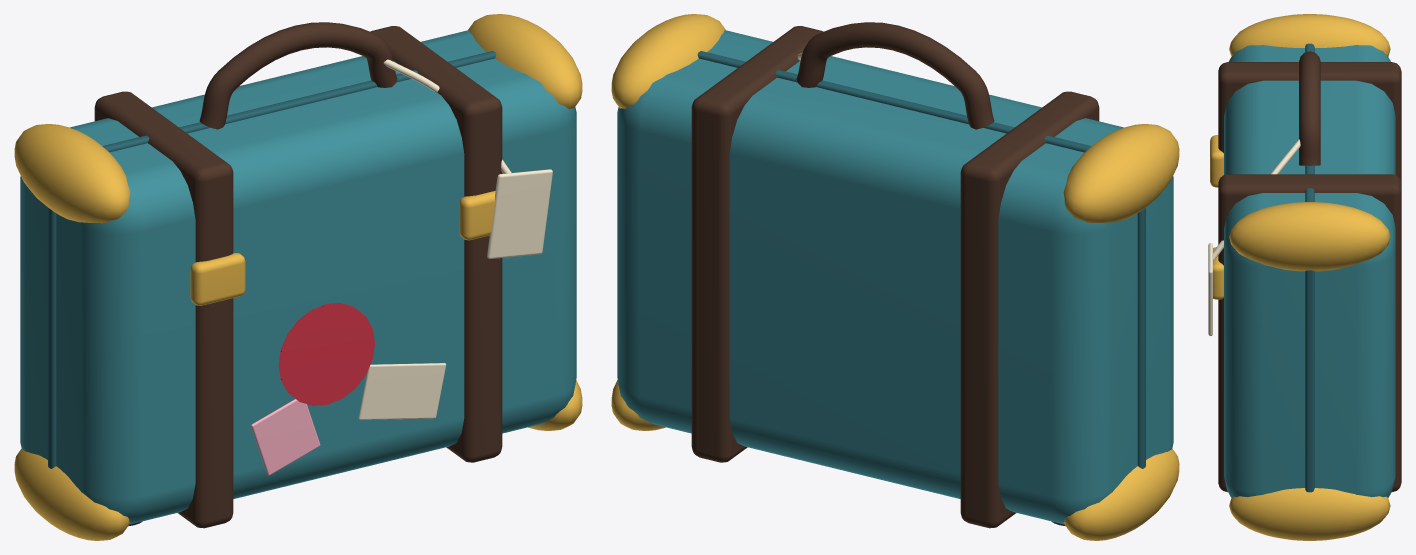
Rendered from suitcase.glb.
The picture shows the model from 3 angles, left to right: view 1: azimuth 30°, elevation 25°; view 2: azimuth 150°, elevation 25°; view 3: azimuth 270°, elevation 25°; orthographic projection. The views are drawn at different scales.
Visible parts, largest first — view 1: body, strap, strap.001, corner.001, sticker_a, handle, corner.003, corner, tag, seam, sticker_b, sticker_c (+3 smaller); view 2: body, strap, strap.001, corner.001, handle, corner.003, corner, seam, corner.002; view 3: body, corner.003, strap.001, corner.002, strap, corner.001, seam, handle, buckle, tag, buckle.001, tag_string.
Boxes of the visible parts, x1=… form: body: x1=20, y1=30, x2=576, y2=524; strap: x1=94, y1=91, x2=233, y2=528; strap.001: x1=370, y1=26, x2=502, y2=462; corner.001: x1=14, y1=124, x2=130, y2=223; sticker_a: x1=278, y1=303, x2=374, y2=405; handle: x1=199, y1=22, x2=397, y2=129; corner.003: x1=468, y1=14, x2=582, y2=108; corner: x1=14, y1=449, x2=129, y2=540; tag: x1=487, y1=169, x2=552, y2=258; seam: x1=48, y1=51, x2=496, y2=468; sticker_b: x1=358, y1=363, x2=446, y2=419; sticker_c: x1=251, y1=399, x2=320, y2=475; body: x1=617, y1=30, x2=1173, y2=524; strap: x1=960, y1=91, x2=1099, y2=528; strap.001: x1=691, y1=26, x2=823, y2=462; corner.001: x1=1063, y1=124, x2=1179, y2=223; handle: x1=796, y1=22, x2=994, y2=129; corner.003: x1=611, y1=14, x2=725, y2=108; corner: x1=1064, y1=449, x2=1179, y2=540; seam: x1=697, y1=51, x2=1145, y2=468; corner.002: x1=611, y1=380, x2=665, y2=430; body: x1=1224, y1=45, x2=1395, y2=497; corner.003: x1=1229, y1=202, x2=1390, y2=271; strap.001: x1=1218, y1=174, x2=1401, y2=492; corner.002: x1=1229, y1=488, x2=1390, y2=540; strap: x1=1218, y1=62, x2=1401, y2=182; corner.001: x1=1229, y1=14, x2=1390, y2=56; seam: x1=1305, y1=43, x2=1314, y2=492; handle: x1=1299, y1=51, x2=1320, y2=165; buckle: x1=1210, y1=135, x2=1223, y2=187; tag: x1=1208, y1=243, x2=1212, y2=335; buckle.001: x1=1213, y1=247, x2=1223, y2=299; tag_string: x1=1213, y1=139, x2=1300, y2=260.
Bounding box in the file's own units: 0.66 × 0.5435 × 0.2475.
